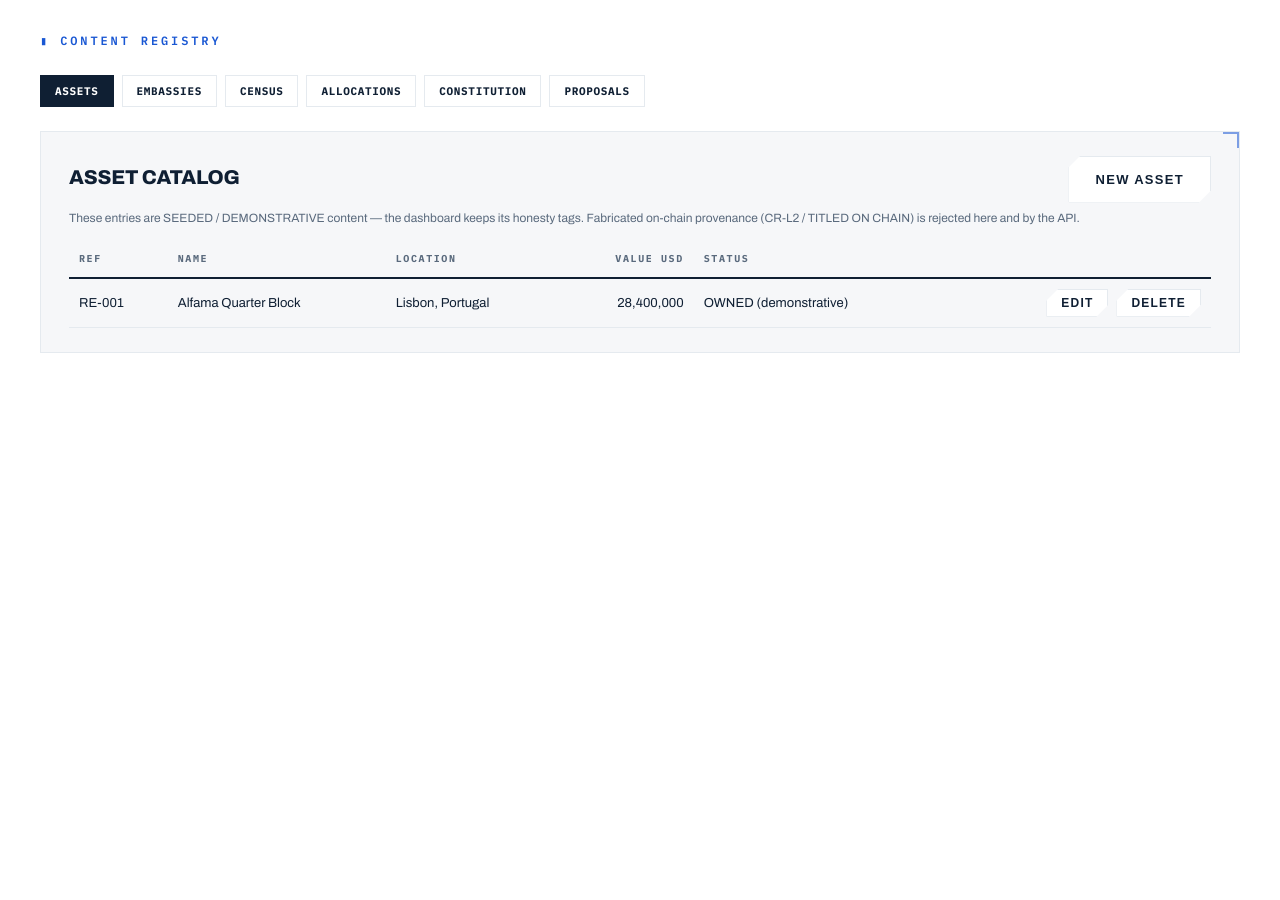
ContentApp › warns when an allocation edit pushes the table-wide sum over 10000
Expected: the text "Alfama Quarter Block" is shown, [168, 278, 386, 327]
Click the button "ALLOCATIONS" at (361, 91), box [306, 75, 416, 107]
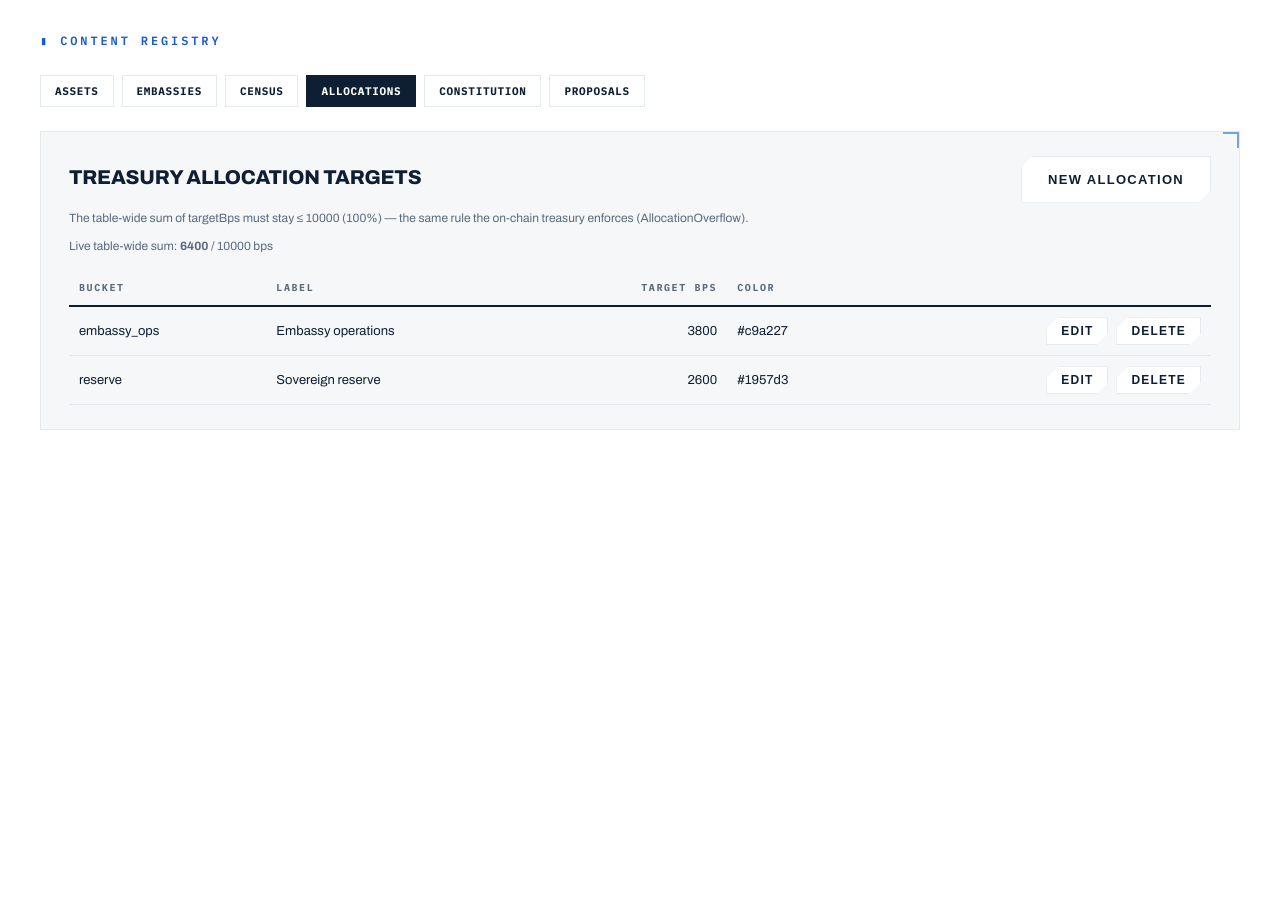
Expected: the text "Embassy operations" is shown, [266, 306, 538, 356]
Expected: the text with test id "allocation-sum" reads "6400", [180, 239, 208, 253]
Click the button "Edit" in the row of "embassy_ops" at (1077, 331), box [1046, 317, 1108, 345]
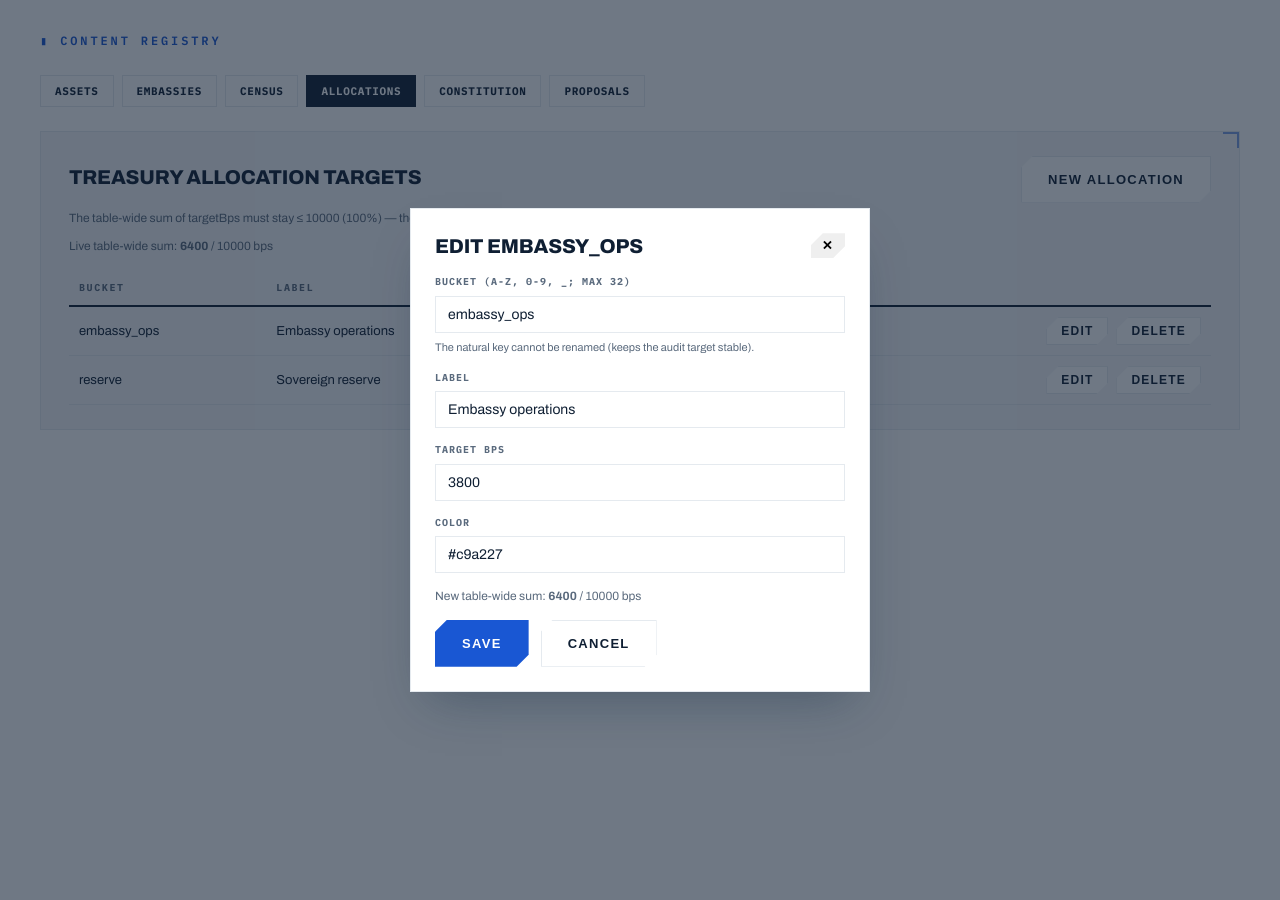
Replace the text in the field labelled "Target bps" with "8000" at (640, 482), box [435, 464, 845, 501]
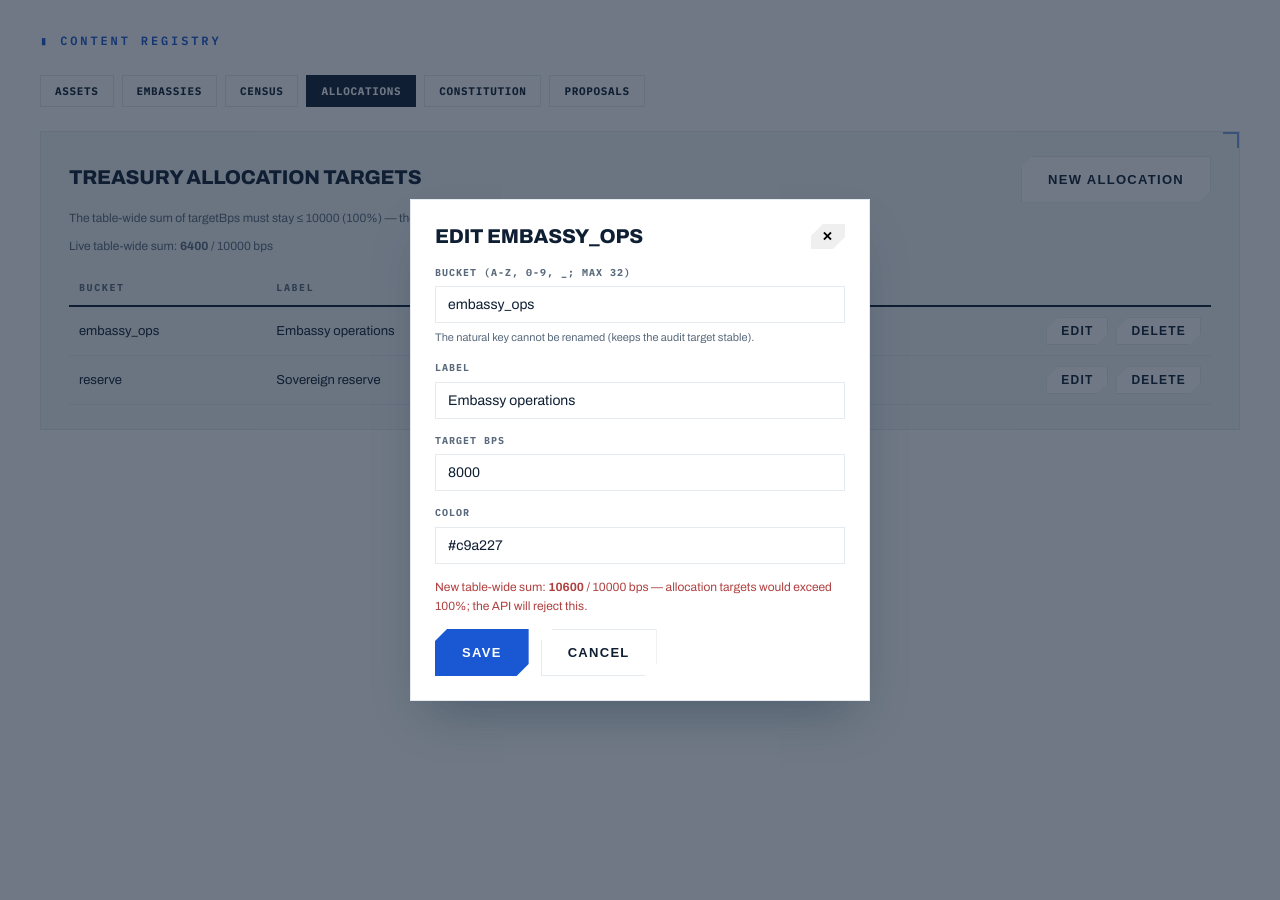
Expected: the text with test id "allocation-sum-warning" shows "exceed", [435, 580, 832, 612]
